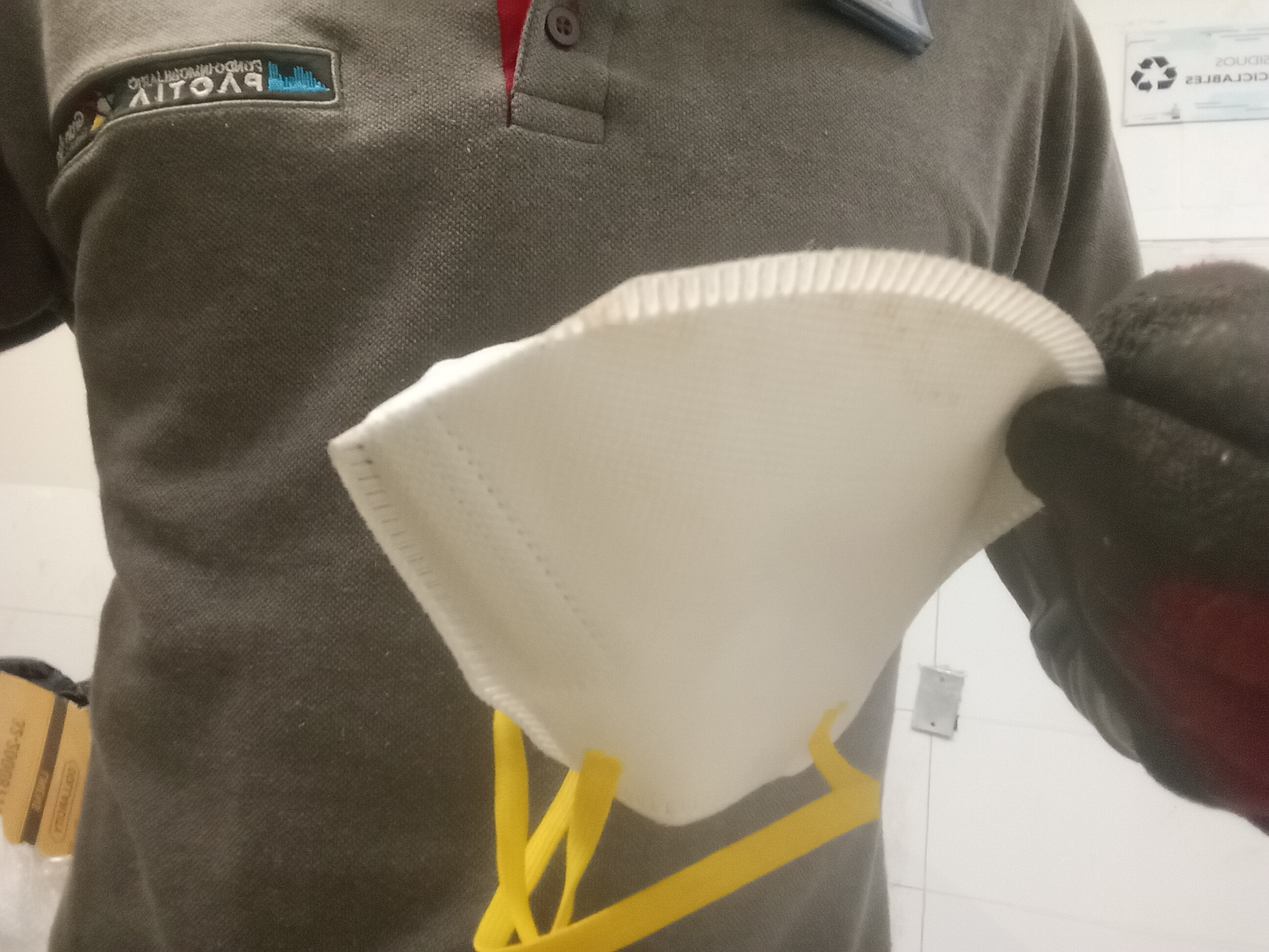Ordinario: (327, 243, 1104, 952)
